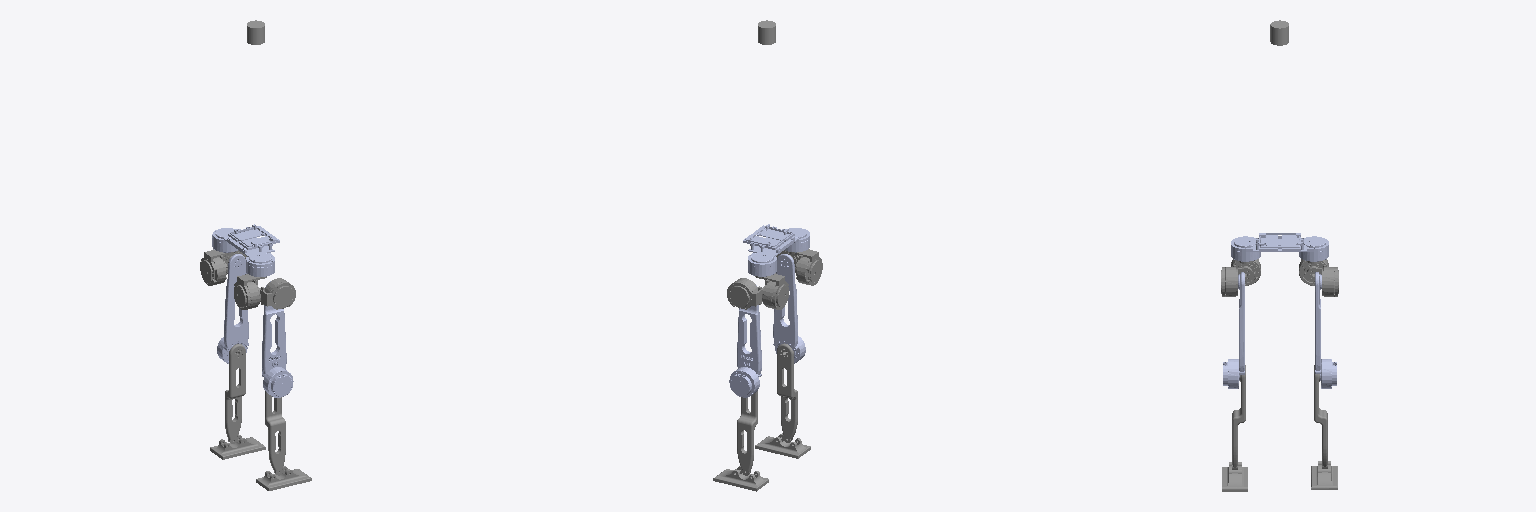
URDF robot description (onshape):
<robot name="onshape">
  <link name="10_dof_base_link">
    <visual>
      <origin xyz="-8.8526265488303446105e-08 5.7660781886070767901e-05 1.8071646401551788585e-09" rpy="6.8888113873722275757e-11 -5.0144680946384294349e-08 -1.4608935690696987412e-18" />
      <geometry>
        <mesh filename="../meshes/10_dof_base_link.stl"/>
      </geometry>
      <material name="10_dof_base_link_material">
        <color rgba="0.79215686274509800047 0.81960784313725487671 0.93333333333333334814 1.0"/>
      </material>
    </visual>
    <collision>
      <origin xyz="-8.8526265488303446105e-08 5.7660781886070767901e-05 1.8071646401551788585e-09" rpy="6.8888113873722275757e-11 -5.0144680946384294349e-08 -1.4608935690696987412e-18" />
      <geometry>
        <!-- <mesh filename="../meshes/10_dof_base_link.stl"/> -->
        <box size="0.2 0.1 0.1"/>
      </geometry>
    </collision>
    <inertial>
      <origin xyz="-0.010021271650525943875 1.3557795443836408308e-05 -0.014236482071857422746" rpy="0 0 0"/>
      <mass value="1.1682801127211333014" />
      <inertia ixx="0.0084059762197198437811" ixy="-3.1031470803132934388e-06" ixz="-0.00014272798967937452147" iyy="0.00094957379140382539105" iyz="1.8993094583372465628e-06" izz="0.0088108267682399862841" />
    </inertial>
  </link>

  <link name="left_hip_yaw_assembled_link">
    <visual>
      <origin xyz="1.7347234759768070944e-18 1.3877787807814456755e-17 0" rpy="-3.141592653589793116 -2.657632046459371556e-19 5.0919519512311372959e-19" />
      <geometry>
        <mesh filename="../meshes/left_hip_yaw_assembled_link.stl"/>
      </geometry>
      <material name="left_hip_yaw_assembled_link_material">
        <color rgba="0.62745098039215685404 0.62745098039215685404 0.62745098039215685404 1.0"/>
      </material>
    </visual>
    <collision>
      <origin xyz="1.7347234759768070944e-18 1.3877787807814456755e-17 0" rpy="-3.141592653589793116 -2.657632046459371556e-19 5.0919519512311372959e-19" />
      <geometry>
        <mesh filename="../meshes/left_hip_yaw_assembled_link.stl"/>
      </geometry>
    </collision>
    <inertial>
      <origin xyz="-0.038199108326162301008 -0.00055603061731508164871 0.049872228042224388267" rpy="0 0 0"/>
      <mass value="0.53489494813292881581" />
      <inertia ixx="0.00052969452284193417699" ixy="-3.2618032470664737405e-06" ixz="5.8674863193901625287e-05" iyy="0.00044896593371919967744" iyz="1.6739468731426167008e-06" izz="0.00030547079016642362604" />
    </inertial>
  </link>

  <link name="left_hip_roll_assembled_link">
    <visual>
      <origin xyz="0 2.7755575615628913511e-17 0" rpy="-3.141592653589793116 -8.6740594182115469816e-19 -2.5845942875821775783e-26" />
      <geometry>
        <mesh filename="../meshes/left_hip_roll_assembled_link.stl"/>
      </geometry>
      <material name="left_hip_roll_assembled_link_material">
        <color rgba="0.62745098039215685404 0.62745098039215685404 0.62745098039215685404 1.0"/>
      </material>
    </visual>
    <collision>
      <origin xyz="0 2.7755575615628913511e-17 0" rpy="-3.141592653589793116 -8.6740594182115469816e-19 -2.5845942875821775783e-26" />
      <!-- <geometry>
        <mesh filename="../meshes/left_hip_roll_assembled_link.stl"/>
      </geometry> -->
    </collision>
    <inertial>
      <origin xyz="-0.038199108326162280191 -0.00055603061731506722883 0.049872228042224381328" rpy="0 0 0"/>
      <mass value="0.53489494813292903785" />
      <inertia ixx="0.00052969452284193396015" ixy="-3.26180324706647247e-06" ixz="5.8674863193901665944e-05" iyy="0.00044896593371919978586" iyz="1.6739468731426154303e-06" izz="0.00030547079016642378867" />
    </inertial>
  </link>

  <link name="left_thigh_assembled_link">
    <visual>
      <origin xyz="-1.3877787807814456755e-17 -1.3877787807814456755e-17 9.7144514654701197287e-16" rpy="0 -3.0708238273497032351e-19 -3.4638188150658033885e-24" />
      <geometry>
        <mesh filename="../meshes/left_thigh_assembled_link.stl"/>
      </geometry>
      <material name="left_thigh_assembled_link_material">
        <color rgba="0.79215686274509800047 0.81960784313725487671 0.93333333333333334814 1.0"/>
      </material>
    </visual>
    <collision>
      <origin xyz="-1.3877787807814456755e-17 -1.3877787807814456755e-17 9.7144514654701197287e-16" rpy="0 -3.0708238273497032351e-19 -3.4638188150658033885e-24" />
      <geometry>
        <mesh filename="../meshes/left_thigh_assembled_link.stl"/>
      </geometry>
    </collision>
    <inertial>
      <origin xyz="-0.00071215583978635548738 0.18551885792314248835 1.7552695534340602738e-05" rpy="0 0 0"/>
      <mass value="0.38042477577232963748" />
      <inertia ixx="0.0034227563688772068805" ixy="-8.0243175043628311711e-06" ixz="-2.8600536926204246245e-06" iyy="0.00022462832370740979976" iyz="-0.00032454380195049608096" izz="0.0035001644173184077481" />
    </inertial>
  </link>

  <link name="left_shin">
    <visual>
      <origin xyz="-3.4694469519536141888e-18 5.5511151231257827021e-17 -4.1633363423443370266e-17" rpy="3.141592653589793116 -1.2659891336982478119e-19 3.3604212384966749292e-24" />
      <geometry>
        <mesh filename="../meshes/left_shin.stl"/>
      </geometry>
      <material name="left_shin_material">
        <color rgba="0.62745098039215685404 0.62745098039215685404 0.62745098039215685404 1.0"/>
      </material>
    </visual>
    <collision>
      <origin xyz="-3.4694469519536141888e-18 5.5511151231257827021e-17 -4.1633363423443370266e-17" rpy="3.141592653589793116 -1.2659891336982478119e-19 3.3604212384966749292e-24" />
      <!-- <geometry>
        <mesh filename="../meshes/left_shin.stl"/>
      </geometry> -->
    </collision>
    <inertial>
      <origin xyz="-0.00027860297896301099759 -0.12257037293542828726 -0.0023367562260511124533" rpy="0 0 0"/>
      <mass value="0.18385415329439019905" />
      <inertia ixx="0.0011911868638529140088" ixy="-5.8844952216253810213e-06" ixz="-5.5717279343409255271e-07" iyy="6.0811306287211696025e-05" iyz="-0.00012578436368043249003" izz="0.0012070183815175716813" />
    </inertial>
  </link>

  <link name="left_foot">
    <visual>
      <origin xyz="-3.4694469519536141888e-18 0 1.3877787807814456755e-17" rpy="-3.3881317890172021086e-21 -6.2128193301782472105e-19 9.1506855263678701226e-24" />
      <geometry>
        <mesh filename="../meshes/left_foot.stl"/>
      </geometry>
      <material name="left_foot_material">
        <color rgba="0.62745098039215685404 0.62745098039215685404 0.62745098039215685404 1.0"/>
      </material>
    </visual>
    <collision>
      <origin xyz="-3.4694469519536141888e-18 0 1.3877787807814456755e-17" rpy="-3.3881317890172021086e-21 -6.2128193301782472105e-19 9.1506855263678701226e-24" />
      <geometry>
        <mesh filename="../meshes/left_foot.stl"/>
      </geometry>
    </collision>
    <inertial>
      <origin xyz="0.015187537197783731319 0.026002543054757687457 -0.00034050842926948134354" rpy="0 0 0"/>
      <mass value="0.14503328474795140757" />
      <inertia ixx="5.3255271906336900788e-05" ixy="-2.8142667452324443283e-06" ixz="9.3713679863158881122e-08" iyy="0.0002335908613945323817" iyz="1.936610405254028531e-07" izz="0.0001950516649632677308" />
    </inertial>
  </link>

  <joint name="left_hip_yaw_joint" type="revolute">
    <origin xyz="-0.015448260793301492322 0.090058795475540909248 -0.040999998961279135457" rpy="3.1415926535190985547 -5.0144678432644649869e-08 0.0027836016256884551709" />
    <parent link="10_dof_base_link" />
    <child link="left_hip_yaw_assembled_link" />
    <axis xyz="0 0 1"/>
    <limit effort="8" velocity="7" lower="-0.34906585039886589561" upper="0.34906585039886589561"/>
    <joint_properties friction="0.0"/>
  </joint>

  <joint name="left_hip_roll_joint" type="revolute">
    <origin xyz="-0.020714482720959499773 1.219521932285805299e-06 0.056302758297119864794" rpy="1.5707963267949003328 -6.9790457465458354129e-11 1.5708143412027857355" />
    <parent link="left_hip_yaw_assembled_link" />
    <child link="left_hip_roll_assembled_link" />
    <axis xyz="0 0 1"/>
    <limit effort="8" velocity="7" lower="-0.34906585039886589561" upper="0.34906585039886589561"/>
    <joint_properties friction="0.0"/>
  </joint>

  <joint name="left_hip_pitch_joint" type="revolute">
    <origin xyz="-0.02071448272095952059 1.2195219323135608747e-06 0.056302758297119837039" rpy="1.8014407889166555456e-05 -1.570796276518905854 0" />
    <parent link="left_hip_roll_assembled_link" />
    <child link="left_thigh_assembled_link" />
    <axis xyz="0 0 1"/>
    <limit effort="8" velocity="7" lower="-1.570796326794896558" upper="0.34906585039886589561"/>
    <joint_properties friction="0.0"/>
  </joint>

  <joint name="left_knee_joint" type="revolute">
    <origin xyz="-1.1791795445983965784e-05 0.26696937369610784785 -0.0055469999999987473771" rpy="-3.141592653589793116 1.3506088249452880441e-15 -1.5226585619511279746e-21" />
    <parent link="left_thigh_assembled_link" />
    <child link="left_shin" />
    <axis xyz="0 0 1"/>
    <limit effort="8" velocity="7" lower="-0.87266462599716476678" upper="-0"/>
    <joint_properties friction="0.0"/>
  </joint>

  <joint name="left_ankle_joint" type="revolute">
    <origin xyz="-0.0032963899599866147705 -0.2668032164997911071 -0.012956114963095899384" rpy="-3.1415926535897926719 -2.7216398458847901519e-16 -7.5454898815966969652e-11" />
    <parent link="left_shin" />
    <child link="left_foot" />
    <axis xyz="0 0 1"/>
    <limit effort="8" velocity="7" lower="-0.52359877559829881566" upper="0.52359877559829881566"/>
    <joint_properties friction="0.0"/>
  </joint>

  <link name="right_hip_yaw_assembled_link">
    <visual>
      <origin xyz="1.561251128379126385e-17 -2.7755575615628913511e-17 0" rpy="-3.141592653589793116 -2.0781423965292224881e-19 0" />
      <geometry>
        <mesh filename="../meshes/right_hip_yaw_assembled_link.stl"/>
      </geometry>
      <material name="right_hip_yaw_assembled_link_material">
        <color rgba="0.62745098039215685404 0.62745098039215685404 0.62745098039215685404 1.0"/>
      </material>
    </visual>
    <collision>
      <origin xyz="1.561251128379126385e-17 -2.7755575615628913511e-17 0" rpy="-3.141592653589793116 -2.0781423965292224881e-19 0" />
      <geometry>
        <mesh filename="../meshes/right_hip_yaw_assembled_link.stl"/>
      </geometry>
    </collision>
    <inertial>
      <origin xyz="0.038199490336614683184 -0.00055715423494521543538 0.049969831391157862321" rpy="0 0 0"/>
      <mass value="0.53488105014710873863" />
      <inertia ixx="0.00053032850976867859909" ixy="3.2670105505230188765e-06" ixz="-5.8680153731445617432e-05" iyy="0.00044960376460740047707" iyz="2.1242914106338632407e-06" izz="0.00030546201872424648838" />
    </inertial>
  </link>

  <link name="right_hip_roll_assembled_link">
    <visual>
      <origin xyz="1.3877787807814456755e-17 -4.1633363423443370266e-17 0" rpy="-3.141592653589793116 -2.05420640298130488e-19 -1.292469707114105455e-26" />
      <geometry>
        <mesh filename="../meshes/right_hip_roll_assembled_link.stl"/>
      </geometry>
      <material name="right_hip_roll_assembled_link_material">
        <color rgba="0.62745098039215685404 0.62745098039215685404 0.62745098039215685404 1.0"/>
      </material>
    </visual>
    <collision>
      <origin xyz="1.3877787807814456755e-17 -4.1633363423443370266e-17 0" rpy="-3.141592653589793116 -2.05420640298130488e-19 -1.292469707114105455e-26" />
      <!-- <geometry>
        <mesh filename="../meshes/right_hip_roll_assembled_link.stl"/>
      </geometry> -->
    </collision>
    <inertial>
      <origin xyz="0.038199490336614683184 -0.00055715423494522920474 0.049969831391157855383" rpy="0 0 0"/>
      <mass value="0.53488105014710873863" />
      <inertia ixx="0.00053032850976867859909" ixy="3.2670105505230226881e-06" ixz="-5.8680153731445637761e-05" iyy="0.00044960376460740053128" iyz="2.1242914106338636643e-06" izz="0.00030546201872424654259" />
    </inertial>
  </link>

  <link name="right_thigh_assembled_link">
    <visual>
      <origin xyz="1.0408340855860842566e-17 2.7755575615628913511e-17 1.9428902930940239457e-16" rpy="0 1.5210765164256186301e-19 0" />
      <geometry>
        <mesh filename="../meshes/right_thigh_assembled_link.stl"/>
      </geometry>
      <material name="right_thigh_assembled_link_material">
        <color rgba="0.79215686274509800047 0.81960784313725487671 0.93333333333333334814 1.0"/>
      </material>
    </visual>
    <collision>
      <origin xyz="1.0408340855860842566e-17 2.7755575615628913511e-17 1.9428902930940239457e-16" rpy="0 1.5210765164256186301e-19 0" />
      <geometry>
        <mesh filename="../meshes/right_thigh_assembled_link.stl"/>
      </geometry>
    </collision>
    <inertial>
      <origin xyz="0.00074797067773483280964 -0.18551907050709309788 1.7546215448078452992e-05" rpy="0 0 0"/>
      <mass value="0.38042405171223225846" />
      <inertia ixx="0.003422735603583819744" ixy="-7.4069946641123789305e-06" ixz="2.7974117379069925119e-06" iyy="0.00022462525406527009543" iyz="0.00032454443982513661278" izz="0.0035001405354723505968" />
    </inertial>
  </link>

  <link name="right_shin">
    <visual>
      <origin xyz="0 0 2.2204460492503130808e-16" rpy="3.141592653589793116 -1.4872072932246277203e-19 6.6174449004242199296e-24" />
      <geometry>
        <mesh filename="../meshes/right_shin.stl"/>
      </geometry>
      <material name="right_shin_material">
        <color rgba="0.62745098039215685404 0.62745098039215685404 0.62745098039215685404 1.0"/>
      </material>
    </visual>
    <collision>
      <origin xyz="0 0 2.2204460492503130808e-16" rpy="3.141592653589793116 -1.4872072932246277203e-19 6.6174449004242199296e-24" />
      <!-- <geometry>
        <mesh filename="../meshes/right_shin.stl"/>
      </geometry> -->
    </collision>
    <inertial>
      <origin xyz="0.00030226339259874332628 0.12257031691862123324 -0.0023367562129040816803" rpy="0 0 0"/>
      <mass value="0.18385415284334488684" />
      <inertia ixx="0.0011911845485189514766" ixy="-6.1026977045558477582e-06" ixz="5.8145360851608883081e-07" iyy="6.0813620228559058759e-05" iyz="0.00012578425382340390534" izz="0.0012070183800956654687" />
    </inertial>
  </link>

  <link name="right_foot">
    <visual>
      <origin xyz="0 -1.1102230246251565404e-16 0" rpy="3.141592653589793116 1.0161181976359195128e-18 0" />
      <geometry>
        <mesh filename="../meshes/right_foot.stl"/>
      </geometry>
      <material name="right_foot_material">
        <color rgba="0.62745098039215685404 0.62745098039215685404 0.62745098039215685404 1.0"/>
      </material>
    </visual>
    <collision>
      <origin xyz="0 -1.1102230246251565404e-16 0" rpy="3.141592653589793116 1.0161181976359195128e-18 0" />
      <geometry>
        <mesh filename="../meshes/right_foot.stl"/>
      </geometry>
    </collision>
    <inertial>
      <origin xyz="0.015187537190500212045 -0.026002543053895946223 0.00034050843220779640789" rpy="0 0 0"/>
      <mass value="0.14503328477161642196" />
      <inertia ixx="5.3255271913745647256e-05" ixy="2.8142667506415920708e-06" ixz="-9.3713660243795456854e-08" iyy="0.0002335908614515599252" iyz="1.9366103807054440616e-07" izz="0.00019505166501422425713" />
    </inertial>
  </link>

  <joint name="right_ankle_joint" type="revolute">
    <origin xyz="0.003347892444654266414 0.26680257520792799442 -0.012956114963096218573" rpy="3.141592653589793116 2.7929081732228866844e-16 -1.0807875709168855358e-18" />
    <parent link="right_shin" />
    <child link="right_foot" />
    <axis xyz="0 0 1"/>
    <limit effort="8" velocity="7" lower="-0.52359877559829881566" upper="0.52359877559829881566"/>
    <joint_properties friction="0.0"/>
  </joint>

  <joint name="right_knee_joint" type="revolute">
    <origin xyz="6.3326415581054645854e-05 -0.26696936644585766985 -0.0055469999999988722772" rpy="-3.141592653589793116 -2.0800098087738670828e-17 6.9476554009553828245e-20" />
    <parent link="right_thigh_assembled_link" />
    <child link="right_shin" />
    <axis xyz="0 0 1"/>
    <limit effort="8" velocity="7" lower="-0" upper="0.87266462599716476678"/>
    <joint_properties friction="0.0"/>
  </joint>

  <joint name="right_hip_pitch_joint" type="revolute">
    <origin xyz="0.020714482720954302541 -1.2192523383830478068e-06 0.056297241554987505208" rpy="-3.1415746391817331862 -1.5707962265083690312 0" />
    <parent link="right_hip_roll_assembled_link" />
    <child link="right_thigh_assembled_link" />
    <axis xyz="0 0 1"/>
    <limit effort="8" velocity="7" lower="-0.34906585039886589561" upper="1.570796326794896558"/>
    <joint_properties friction="0.0"/>
  </joint>

  <joint name="right_hip_roll_joint" type="revolute">
    <origin xyz="0.020714482720954306011 -1.219252338369170019e-06 0.056297241554987532963" rpy="1.57079632679489678 3.2127874593201277269e-12 -1.5707783123868368502" />
    <parent link="right_hip_yaw_assembled_link" />
    <child link="right_hip_roll_assembled_link" />
    <axis xyz="0 0 1"/>
    <limit effort="8" velocity="7" lower="-0.34906585039886589561" upper="0.34906585039886589561"/>
    <joint_properties friction="0.0"/>
  </joint>

  <joint name="right_hip_yaw_joint" type="revolute">
    <origin xyz="-0.015446141467287999999 -0.089944678857579729581 -0.040999998973574106054" rpy="3.1415926535209051096 5.0144680946418486686e-08 3.141592653589793116" />
    <parent link="10_dof_base_link" />
    <child link="right_hip_yaw_assembled_link" />
    <axis xyz="0 0 1"/>
    <limit effort="8" velocity="7" lower="-0.34906585039886589561" upper="0.34906585039886589561"/>
    <joint_properties friction="0.0"/>
  </joint>

  <link name="additional_weight">
    <visual>
      <origin xyz="-3.4694469519536141888e-18 -1.3552527156068805425e-20 -0.050000000000000155431" rpy="3.141592653589793116 -6.617444900424221399e-24 3.8518598887744717061e-34" />
      <geometry>
        <mesh filename="../meshes/additional_weight.stl"/>
      </geometry>
      <material name="additional_weight_material">
        <color rgba="0.64705882352941179736 0.64705882352941179736 0.64705882352941179736 1.0"/>
      </material>
    </visual>
    <collision>
      <origin xyz="-3.4694469519536141888e-18 -1.3552527156068805425e-20 -0.050000000000000155431" rpy="3.141592653589793116 -6.617444900424221399e-24 3.8518598887744717061e-34" />
      <geometry>
        <mesh filename="../meshes/additional_weight.stl"/>
      </geometry>
    </collision>
    <inertial>
      <origin xyz="-2.2496076704147595685e-18 -1.3552527156068758781e-20 -0.024999999999999911182" rpy="0 0 0"/>
      <mass value="0.79579314812178392202" />
      <inertia ixx="0.00029130794056903707876" ixy="2.2441547431187431524e-37" ixz="1.9277142457716565769e-27" iyy="0.00029130794056903707876" iyz="7.4252851803069777165e-61" izz="0.00025103540275399723785" />
    </inertial>
  </link>

  <joint name="weight_to_base" type="fixed">
    <origin xyz="0.021893045761037083913 6.424156877995459633e-05 0.60300000290498989575" rpy="-3.1415926535209051096 -5.0144680946549981934e-08 -1.4608935690811071798e-18" />
    <parent link="10_dof_base_link" />
    <child link="additional_weight" />
    <axis xyz="0 0 1"/>
    <limit effort="8" velocity="7" />
    <joint_properties friction="0.0"/>
  </joint>


</robot>

--- Facts derived from the render (not from the file) ---
Views: 3 orthographic renders of the robot side by side, from view 1: azimuth 30°, elevation 25°; view 2: azimuth 150°, elevation 25°; view 3: azimuth 270°, elevation 25°.
Robot: onshape — 12 links, 11 joints (10 revolute, 1 fixed); root link 10_dof_base_link; default pose: every joint at zero.
Links seen in each view (by area): view 1: 10_dof_base_link, right_thigh_assembled_link, left_thigh_assembled_link, left_shin, right_shin, right_hip_roll_assembled_link, right_hip_yaw_assembled_link, left_hip_yaw_assembled_link, right_foot, left_foot; view 2: 10_dof_base_link, left_thigh_assembled_link, right_thigh_assembled_link, right_shin, left_shin, left_hip_roll_assembled_link, left_hip_yaw_assembled_link, right_hip_yaw_assembled_link, right_foot, left_foot; view 3: 10_dof_base_link, right_thigh_assembled_link, left_thigh_assembled_link, right_foot, left_foot, right_shin, left_shin, left_hip_roll_assembled_link, right_hip_roll_assembled_link.
Boxes of the visible links, box(x1,y1,x2,y2) form: 10_dof_base_link: box(212, 224, 279, 276); right_thigh_assembled_link: box(262, 281, 293, 397); left_thigh_assembled_link: box(217, 254, 248, 363); left_shin: box(225, 344, 245, 443); right_shin: box(265, 391, 285, 475); right_hip_roll_assembled_link: box(259, 278, 295, 309); right_hip_yaw_assembled_link: box(234, 274, 266, 309); left_hip_yaw_assembled_link: box(200, 249, 233, 285); right_foot: box(256, 466, 311, 490); left_foot: box(210, 434, 265, 459); 10_dof_base_link: box(743, 224, 809, 276); left_thigh_assembled_link: box(729, 285, 761, 397); right_thigh_assembled_link: box(773, 254, 805, 363); right_shin: box(777, 343, 797, 442); left_shin: box(737, 391, 757, 475); left_hip_roll_assembled_link: box(727, 278, 763, 309); left_hip_yaw_assembled_link: box(755, 273, 788, 309); right_hip_yaw_assembled_link: box(789, 249, 822, 285); right_foot: box(755, 433, 810, 458); left_foot: box(713, 466, 768, 491); 10_dof_base_link: box(1231, 233, 1328, 261); right_thigh_assembled_link: box(1223, 272, 1244, 388); left_thigh_assembled_link: box(1315, 272, 1336, 388); right_foot: box(1222, 462, 1247, 491); left_foot: box(1311, 461, 1337, 489); right_shin: box(1232, 365, 1245, 469); left_shin: box(1314, 365, 1327, 468); left_hip_roll_assembled_link: box(1307, 265, 1338, 296); right_hip_roll_assembled_link: box(1221, 265, 1252, 296).
Bounding box of the posed robot: 0.1901 × 0.3126 × 1.32 m (x, y, z).
12 mesh visuals loaded from 12 distinct referenced files (12 binary STL).